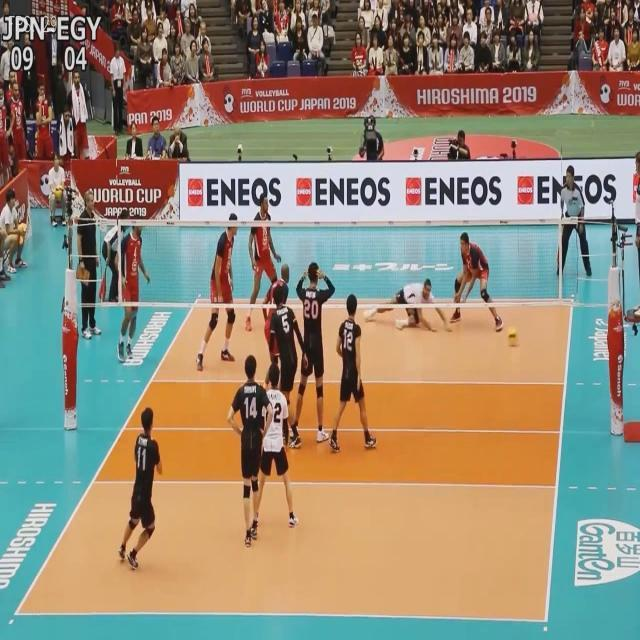volleyball: (506, 327, 519, 346), (53, 186, 64, 200)
